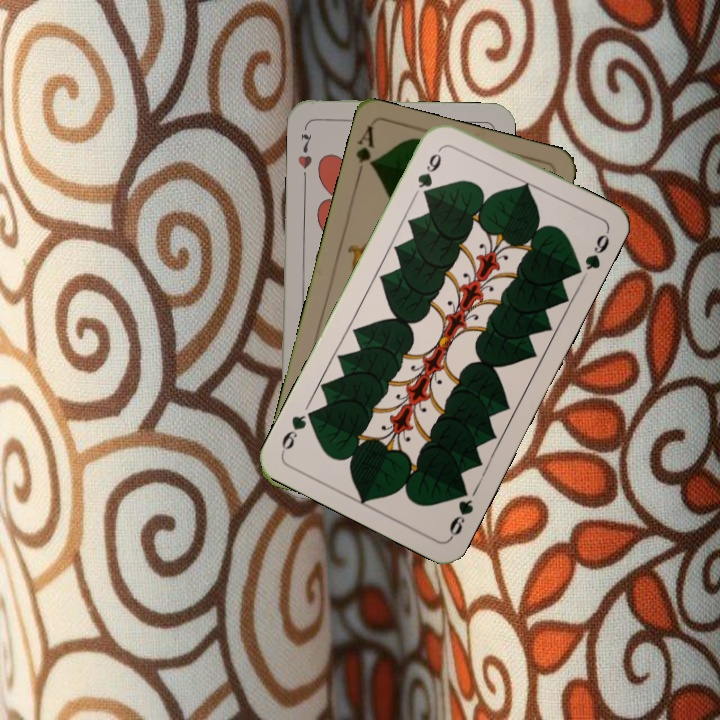G9: (413, 143, 446, 201), (445, 481, 476, 541)
GA: (351, 123, 378, 182)
H7: (294, 129, 315, 182)
